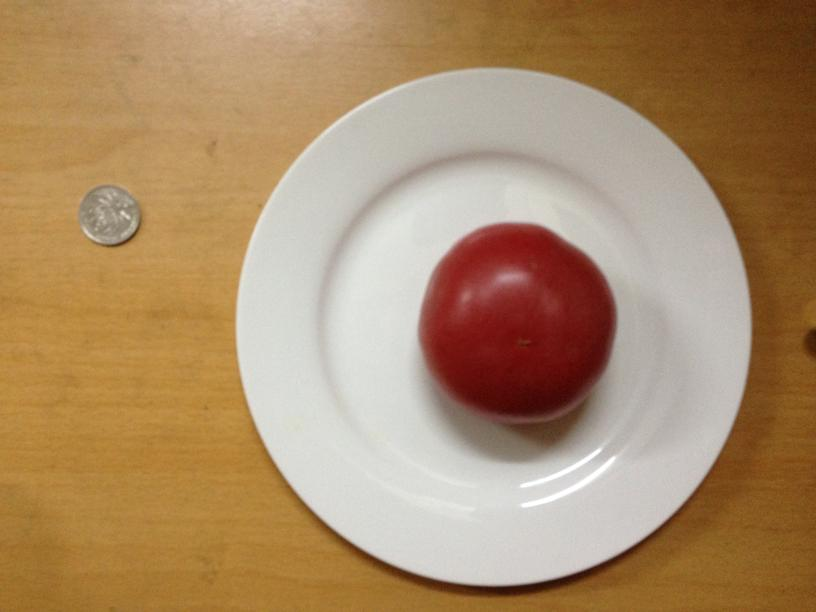coin: (74, 185, 142, 244)
tomato: (418, 221, 615, 421)
